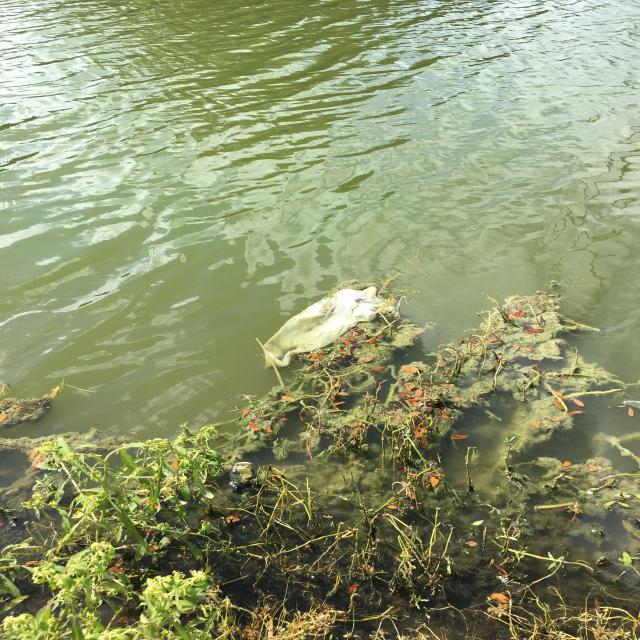litter: (224, 277, 403, 381)
